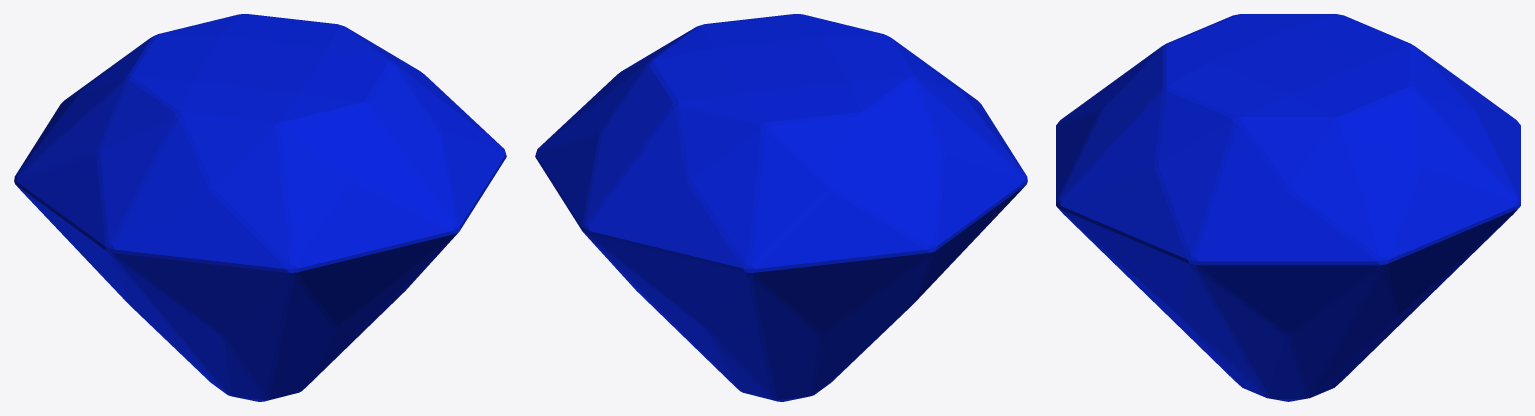
File: Blue Chaos Emerald.obj
The picture shows the model from 3 angles, left to right: view 1: azimuth 30°, elevation 25°; view 2: azimuth 150°, elevation 25°; view 3: azimuth 270°, elevation 25°; orthographic projection.
Size of the model in its own units: 37.38 by 29.91 by 37.38.
Materials: 1 (1 with a texture image).
